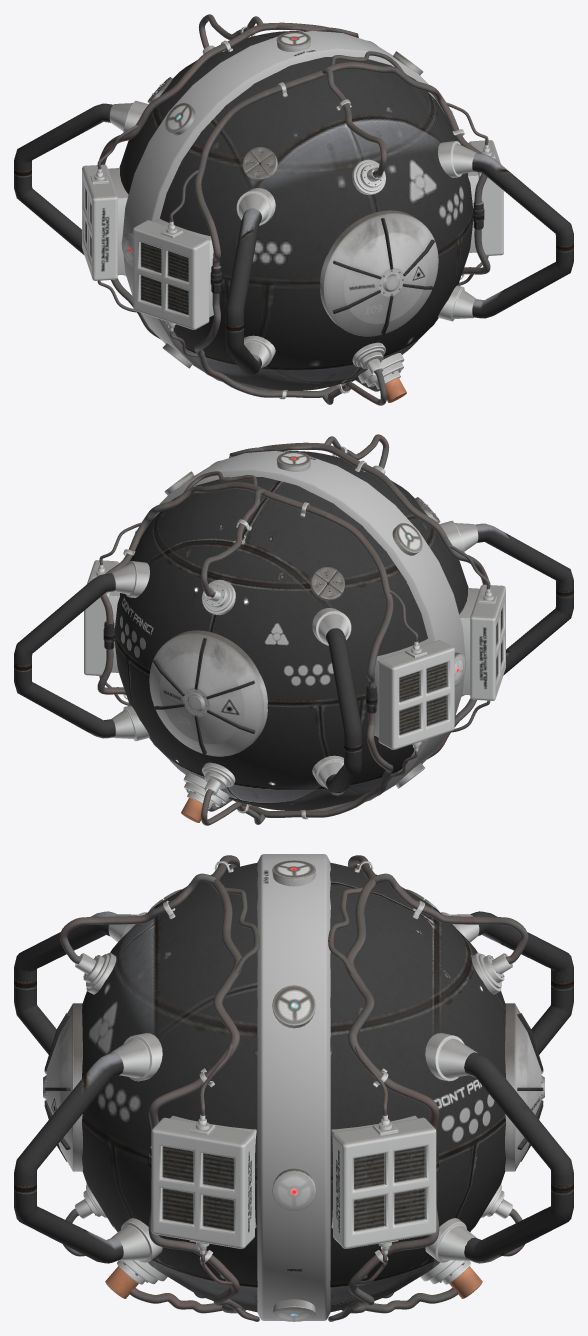
Rendered from satmodul.glb.
3 views of the same model, one above another, from view 1: azimuth 30°, elevation 25°; view 2: azimuth 150°, elevation 25°; view 3: azimuth 270°, elevation 25° (orthographic). The views are drawn at different scales.
Parts seen in each view (by area): view 1: SM_Modul.001; view 2: SM_Modul.001; view 3: SM_Modul.001.
Part boxes in pixels (x1,y1,x2,y2): SM_Modul.001: [14, 14, 573, 405]; SM_Modul.001: [14, 434, 573, 825]; SM_Modul.001: [14, 854, 573, 1321].
Size of the model in its own units: 1.88 by 1.72 by 2.
Materials: 1 (1 with a texture image).
